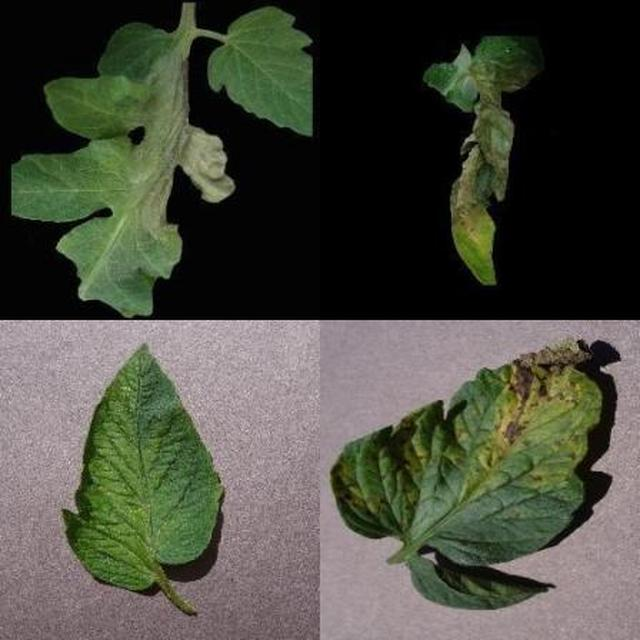Late Blight Leaf: (153, 103, 640, 640)
